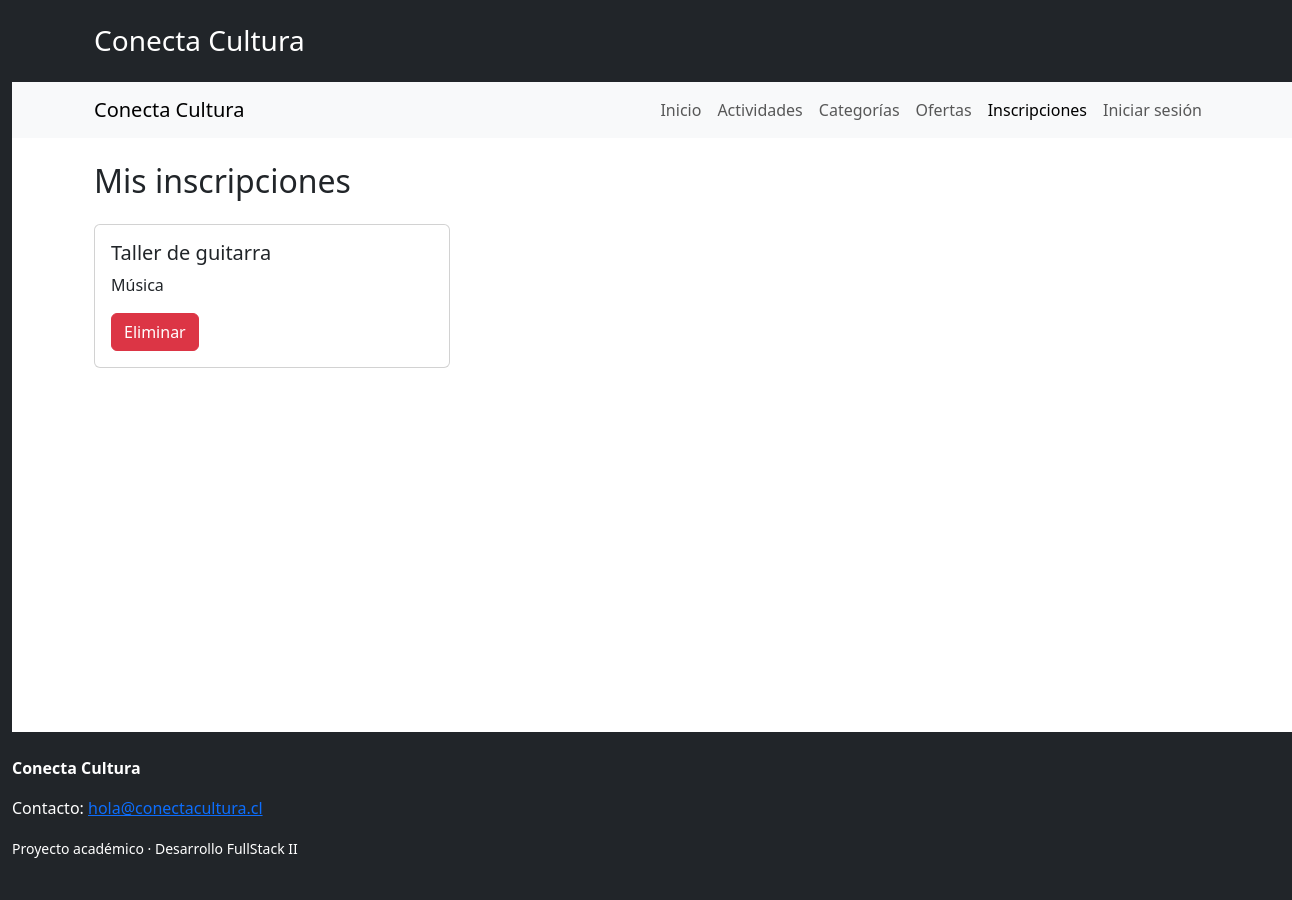
Test: App › elimina una inscripción guardada
This screenshot has width=1292, height=900.
Expected: the heading "Taller de guitarra" is shown, [111,239,271,266]
What coordinates should you click on to do the following:
click the button "Eliminar"
I would click on:
 (155, 332)
Its box is [111,313,199,351].
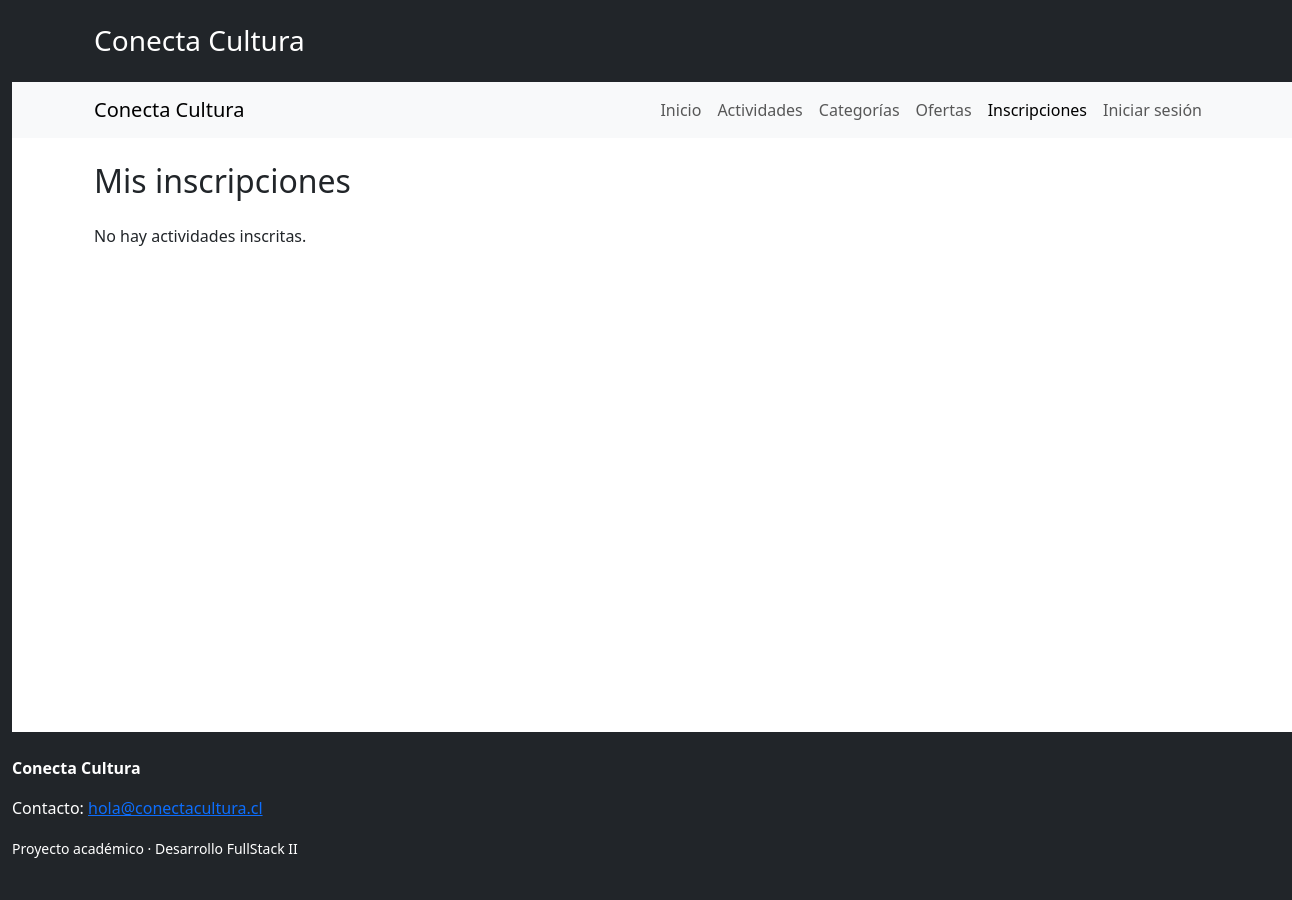
Expected: the text "No hay actividades inscritas." is shown, [94,225,306,247]
